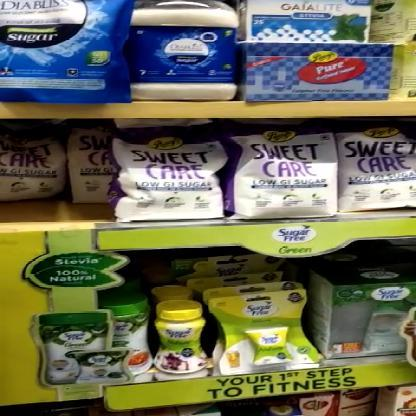SUGAR FREE NATURA 500 PELLET: (210, 294, 318, 372)
SUGAR FREE NATURA_ POWDER_CONC_100G: (154, 302, 206, 376)
